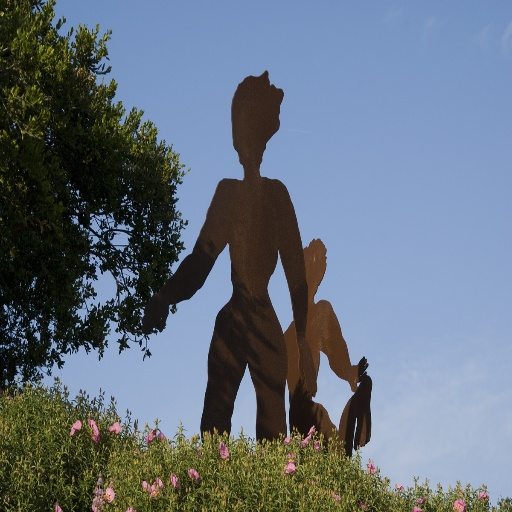hand: (140, 289, 168, 332), (296, 353, 318, 401), (350, 353, 369, 391)
